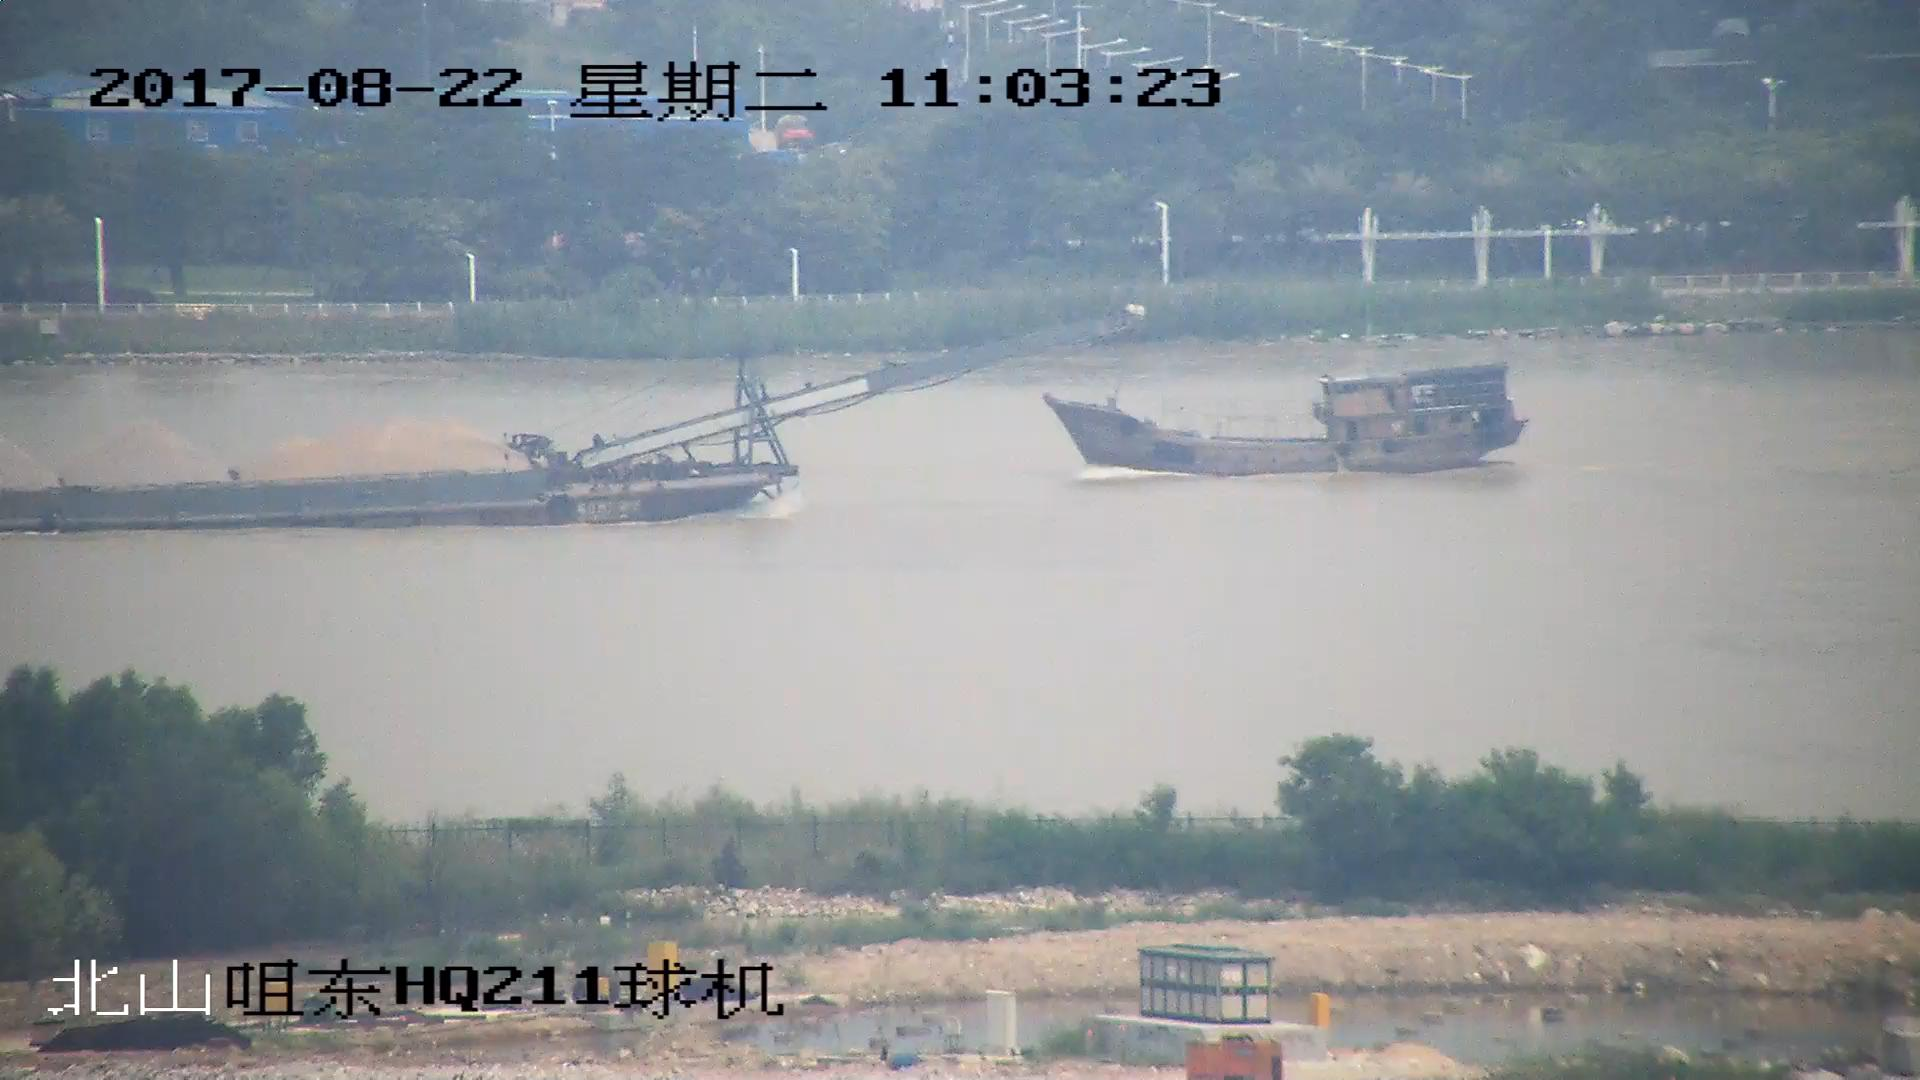fishing boat: (1044, 360, 1519, 479)
ore carrier: (1, 305, 1144, 536)
